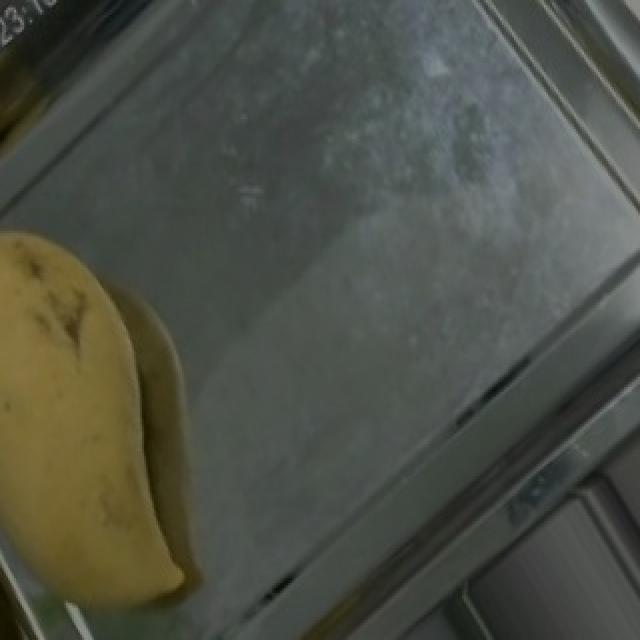fruit: (0, 174, 230, 558)
